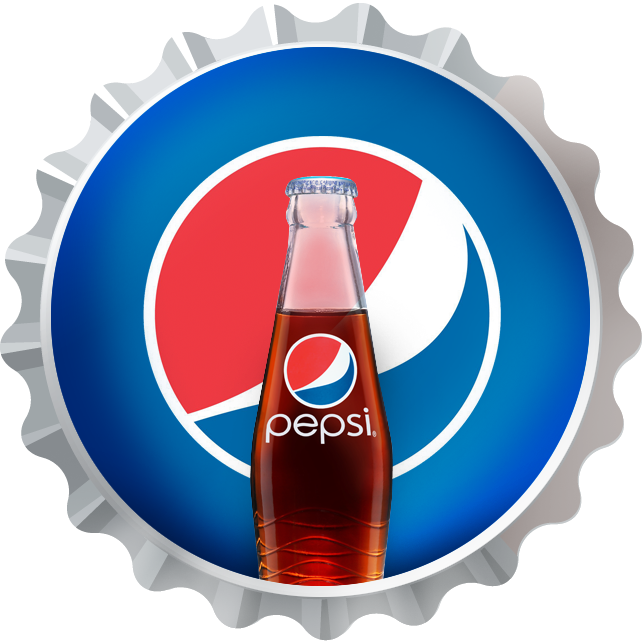pepsi: (150, 135, 491, 479)
